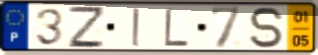3: (35, 8, 65, 47)
7: (210, 5, 244, 51)
I: (130, 7, 142, 48)
L: (163, 7, 191, 48)
S: (247, 6, 287, 51)
Z: (66, 4, 107, 50)
